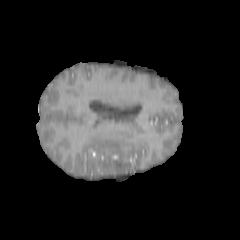glioma: (85, 135, 129, 176)
